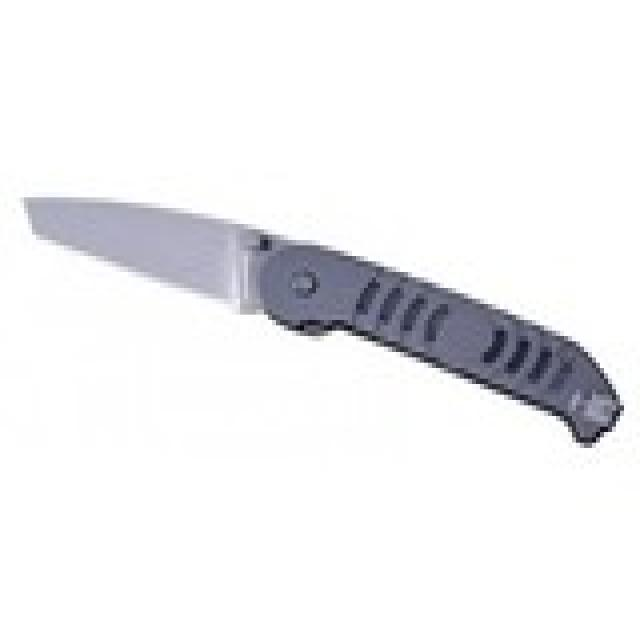Knife: (16, 172, 624, 455)
